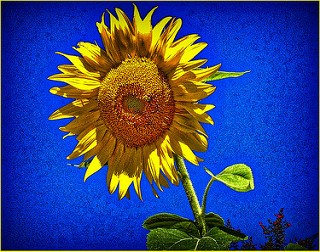flower: (40, 2, 231, 202)
